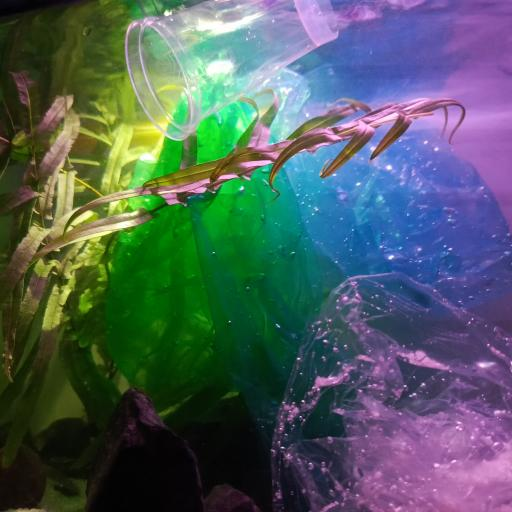plastic_bag: (102, 74, 354, 449), (271, 58, 512, 312), (268, 272, 512, 512)
plastic_cup: (124, 0, 342, 140)
